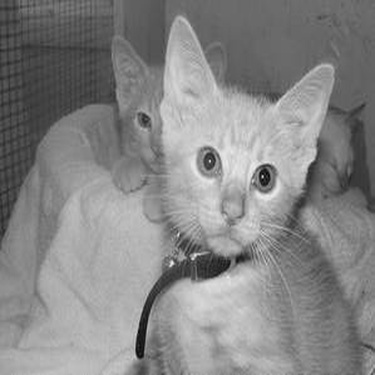cat: (155, 13, 362, 371), (40, 33, 227, 225), (298, 96, 367, 209)
